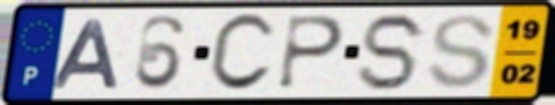6: (132, 13, 189, 94)
A: (49, 17, 123, 91)
C: (204, 11, 279, 96)
P: (274, 13, 349, 92)
S: (355, 11, 432, 94), (424, 12, 499, 92)
